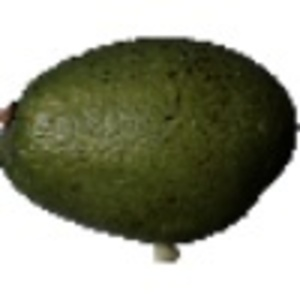abacate: (2, 32, 300, 243)
